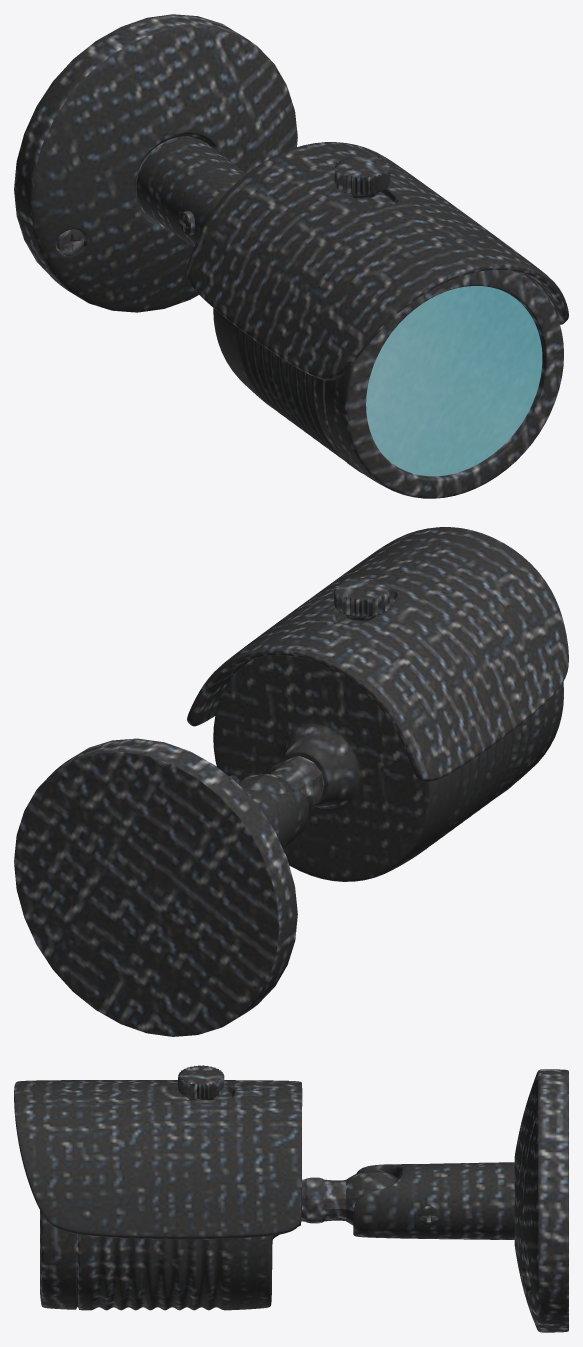
File: cameratext.fbx
3 renders of one model, top to bottom at view 1: azimuth 30°, elevation 25°; view 2: azimuth 150°, elevation 25°; view 3: azimuth 270°, elevation 25°, orthographic. The views are drawn at different scales.
Parts seen in each view (by area): view 1: Default; view 2: Default; view 3: Default.
Boxes of the visible parts, x1,y1,x2,y2 form: Default: [14, 14, 568, 498]; Default: [14, 527, 568, 1036]; Default: [14, 1065, 568, 1332].
Bounding box in the file's own units: 69.23 × 71.28 × 146.
Materials: 2 (2 with a texture image).
